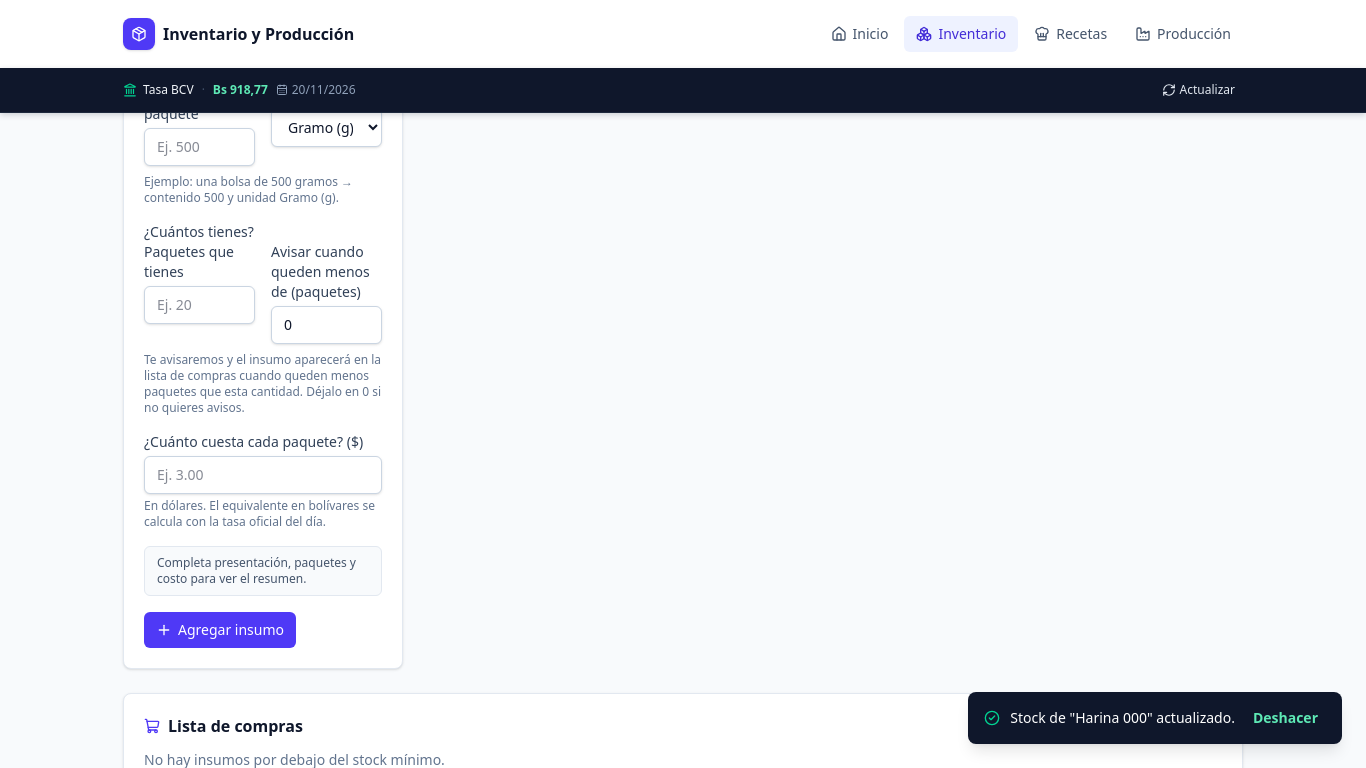
Scenario: flujo de inventario › suma y resta un paquete con deshacer
Earlier steps of the test are not shown.
(page scrolled)
Click the button "Deshacer" at [1285, 718], box left=1245, top=704, right=1326, bottom=732
(page scrolled)
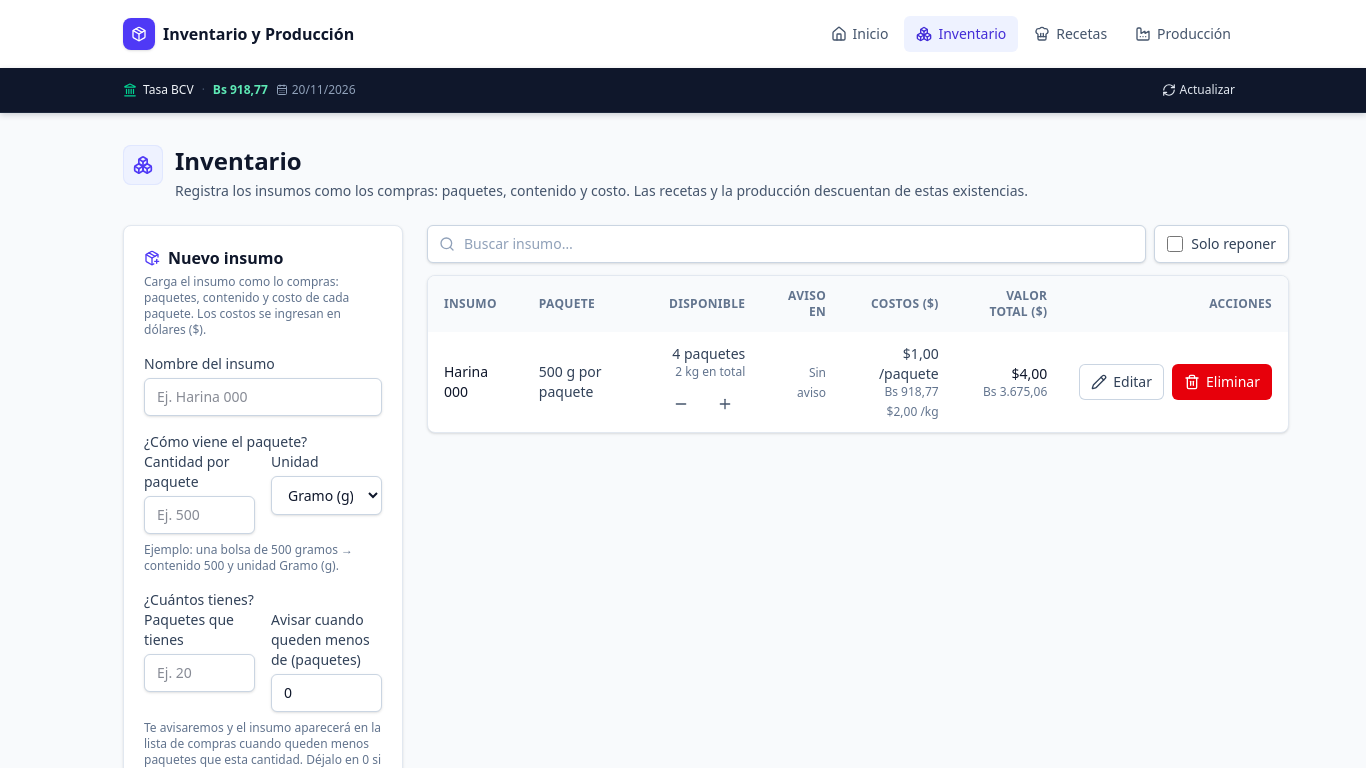
Expected: the text "4 paquetes" is shown, left=672, top=344, right=745, bottom=363
